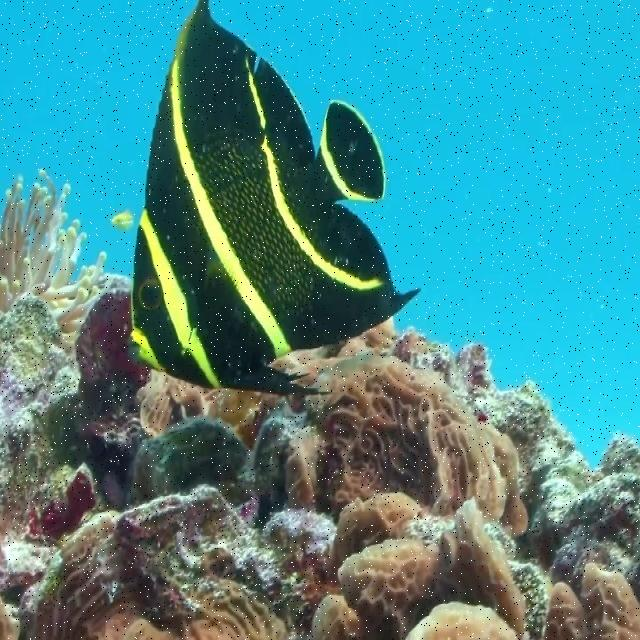fish: (129, 1, 422, 395)
reefs: (287, 350, 530, 531), (311, 493, 526, 639), (0, 168, 107, 336)
